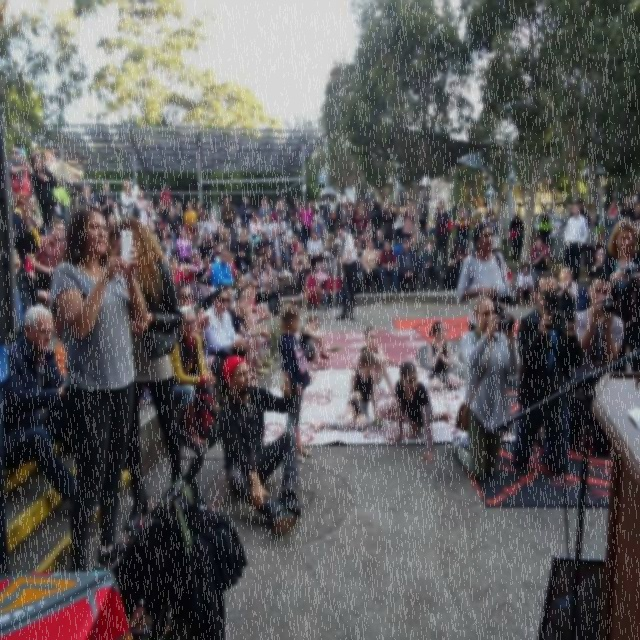pessoa: (49, 203, 148, 572), (106, 216, 184, 534), (217, 354, 303, 536), (511, 271, 584, 476), (451, 294, 518, 480), (0, 213, 24, 586), (378, 360, 455, 465), (176, 280, 230, 412), (170, 306, 218, 449), (276, 296, 314, 460), (455, 224, 512, 332), (314, 345, 384, 432), (604, 218, 640, 376), (574, 273, 624, 375), (10, 187, 40, 341), (231, 285, 268, 369), (30, 218, 69, 292), (356, 326, 396, 398), (432, 202, 502, 240), (30, 156, 60, 237), (242, 285, 270, 367), (428, 320, 460, 390), (564, 202, 590, 284), (298, 314, 334, 364), (243, 263, 276, 316), (220, 282, 250, 336), (190, 249, 214, 313), (7, 146, 36, 197), (396, 236, 419, 294), (420, 234, 442, 292), (600, 198, 622, 255), (291, 241, 312, 299), (584, 200, 601, 270), (433, 199, 449, 273), (260, 258, 280, 316), (300, 265, 324, 312), (361, 238, 381, 294), (220, 194, 238, 256), (556, 266, 579, 314), (210, 248, 236, 290), (380, 239, 400, 293), (322, 194, 344, 242), (26, 194, 44, 250), (530, 238, 551, 286), (324, 268, 346, 310), (346, 231, 366, 277), (516, 262, 536, 308), (233, 231, 253, 276), (448, 242, 466, 290), (52, 175, 70, 221), (508, 214, 525, 262), (167, 255, 194, 285), (298, 200, 315, 247), (120, 178, 141, 216), (564, 198, 590, 228), (98, 182, 118, 219), (588, 247, 612, 277), (402, 198, 415, 252), (306, 228, 324, 266), (133, 188, 150, 228), (248, 210, 264, 252), (367, 199, 382, 243), (381, 200, 397, 241), (340, 198, 353, 248), (238, 195, 255, 233), (176, 229, 193, 266), (157, 227, 177, 257), (164, 208, 180, 244), (254, 231, 272, 263), (537, 212, 553, 248), (322, 232, 335, 276), (258, 196, 273, 233), (618, 195, 636, 225), (416, 197, 428, 241), (269, 227, 286, 257), (194, 223, 212, 251), (183, 201, 198, 234), (78, 185, 99, 208), (530, 234, 550, 258), (140, 196, 160, 220), (227, 248, 242, 278), (394, 203, 404, 248), (272, 212, 288, 240), (356, 201, 370, 232), (309, 214, 325, 241), (262, 212, 276, 242), (261, 246, 277, 272), (232, 272, 246, 300), (197, 212, 213, 236), (484, 208, 499, 233), (221, 228, 235, 254), (361, 230, 376, 254), (628, 200, 640, 230), (290, 212, 304, 236), (159, 195, 174, 217), (212, 240, 225, 264), (373, 228, 387, 250), (214, 220, 224, 246), (162, 185, 172, 209), (174, 201, 184, 225), (504, 262, 514, 286), (232, 212, 245, 230), (291, 196, 302, 216), (410, 232, 420, 254), (351, 201, 358, 231), (528, 218, 536, 244), (274, 257, 286, 274), (274, 198, 286, 215), (196, 200, 206, 220), (316, 252, 326, 272), (208, 216, 220, 232), (307, 200, 319, 215), (634, 214, 640, 244), (105, 212, 116, 228), (292, 235, 300, 257), (446, 216, 454, 238), (242, 225, 252, 241), (145, 219, 155, 233), (172, 224, 182, 238), (187, 232, 194, 252)
